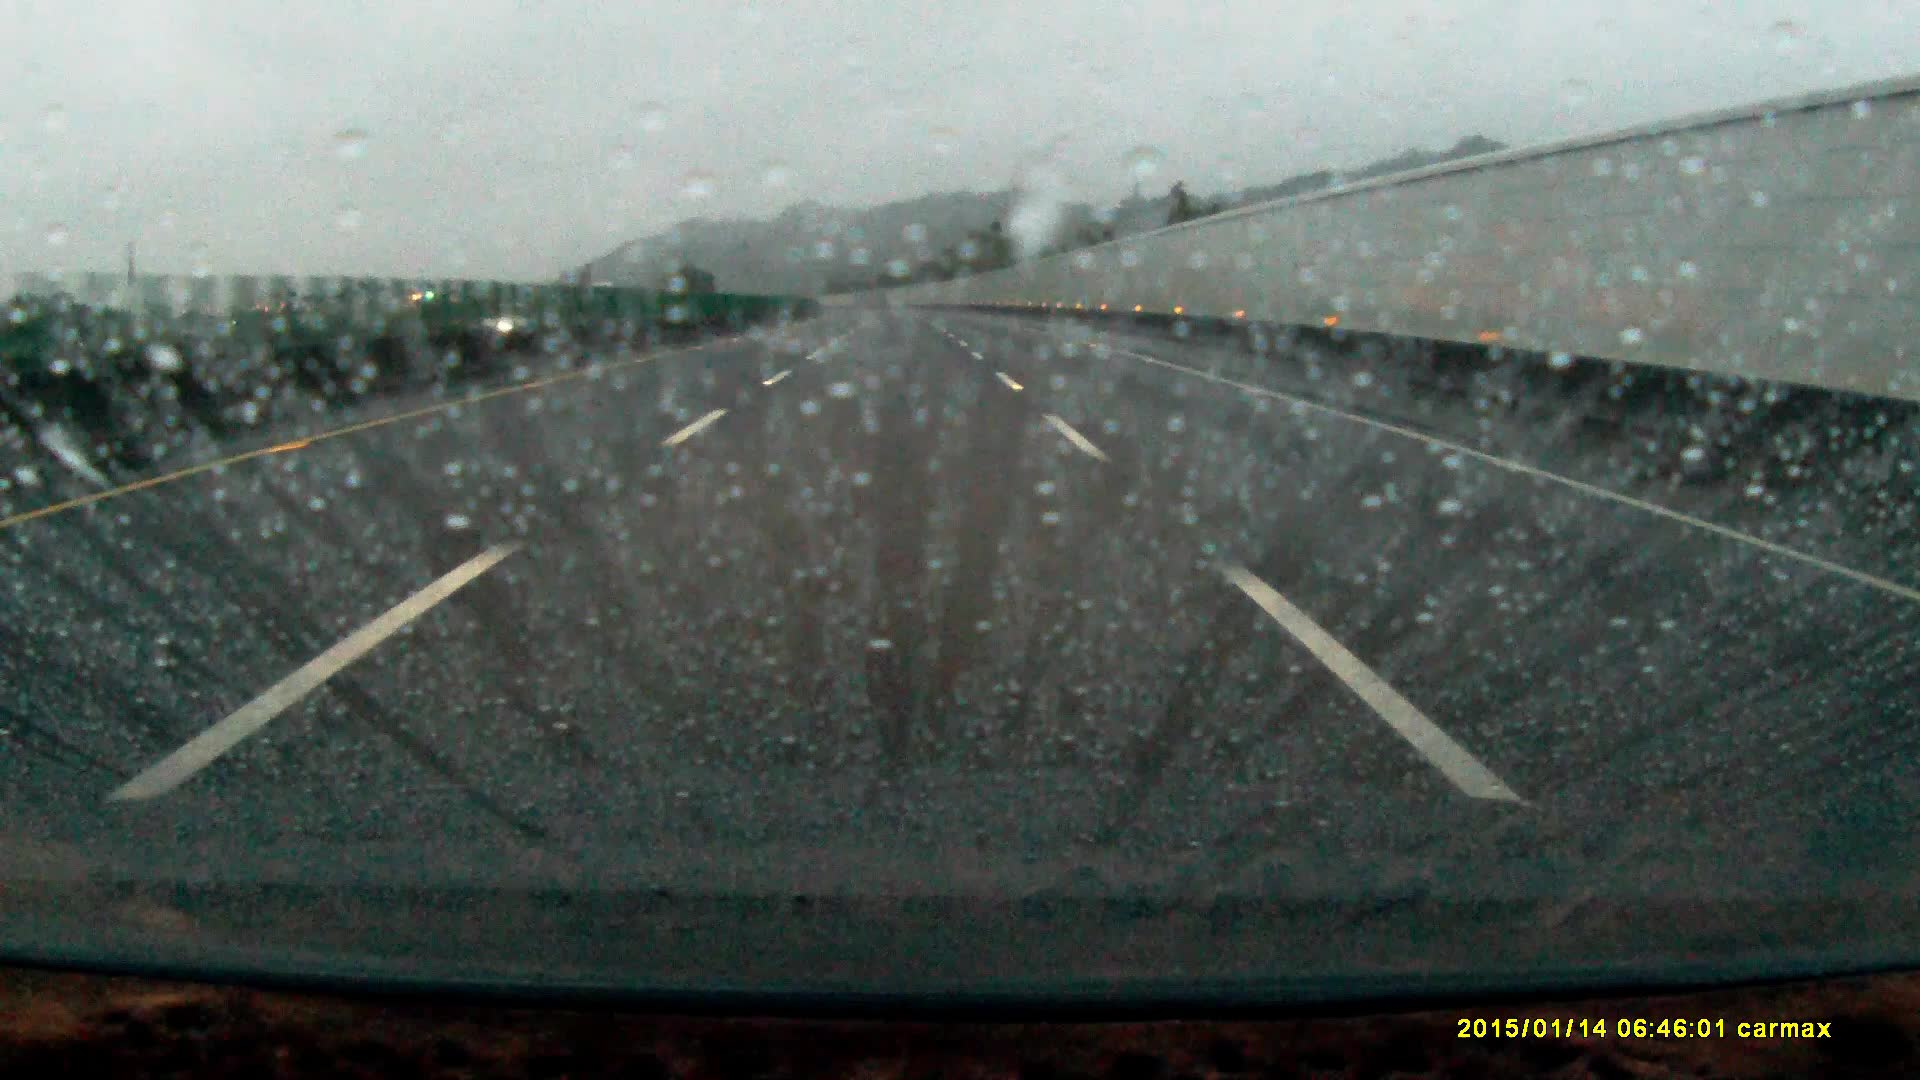vehicle: (463, 297, 535, 340)
